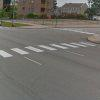Crosswalk: (3, 34, 100, 65)
